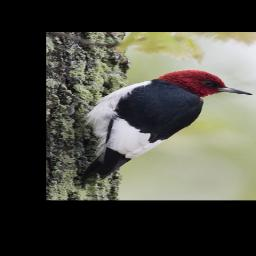Woodpecker: (64, 68, 256, 187)
